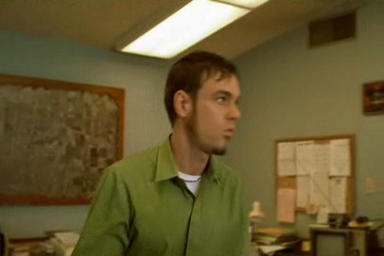face: (201, 78, 240, 156)
mcu: (1, 1, 384, 256)
person: (71, 49, 259, 256)
